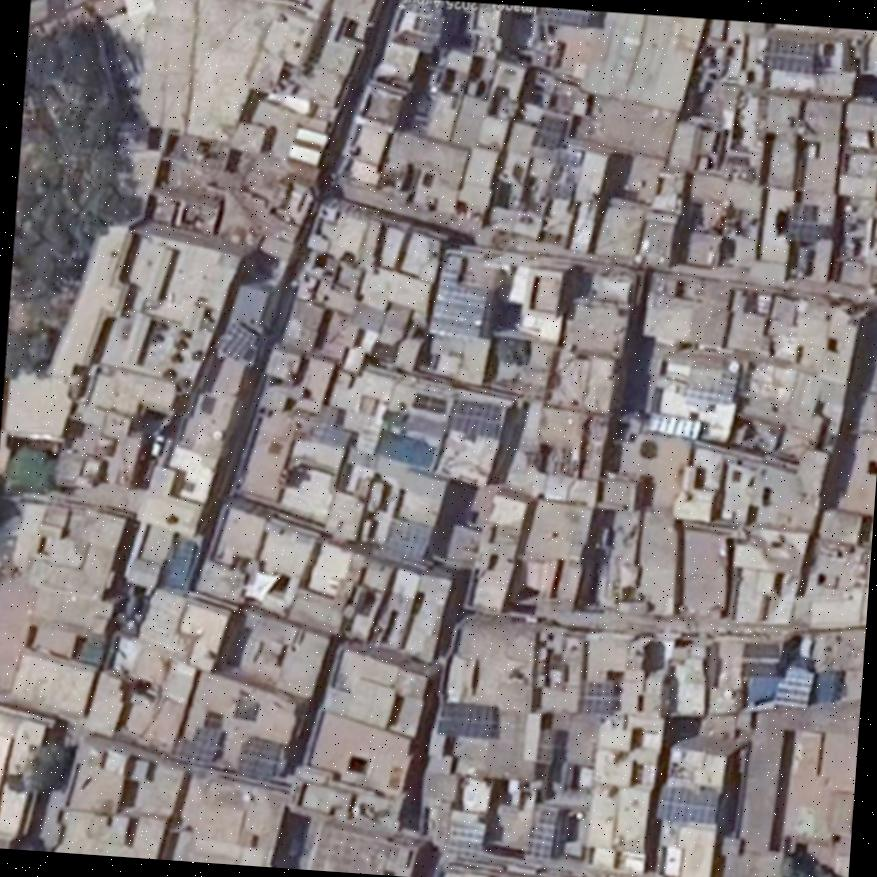Solarpanel: (436, 700, 493, 740), (655, 787, 718, 822), (445, 398, 500, 437), (761, 35, 816, 72), (176, 721, 223, 763), (523, 805, 556, 861), (236, 736, 280, 775), (772, 666, 811, 708), (215, 322, 254, 361), (646, 413, 700, 438), (534, 7, 587, 28), (583, 683, 613, 716)
